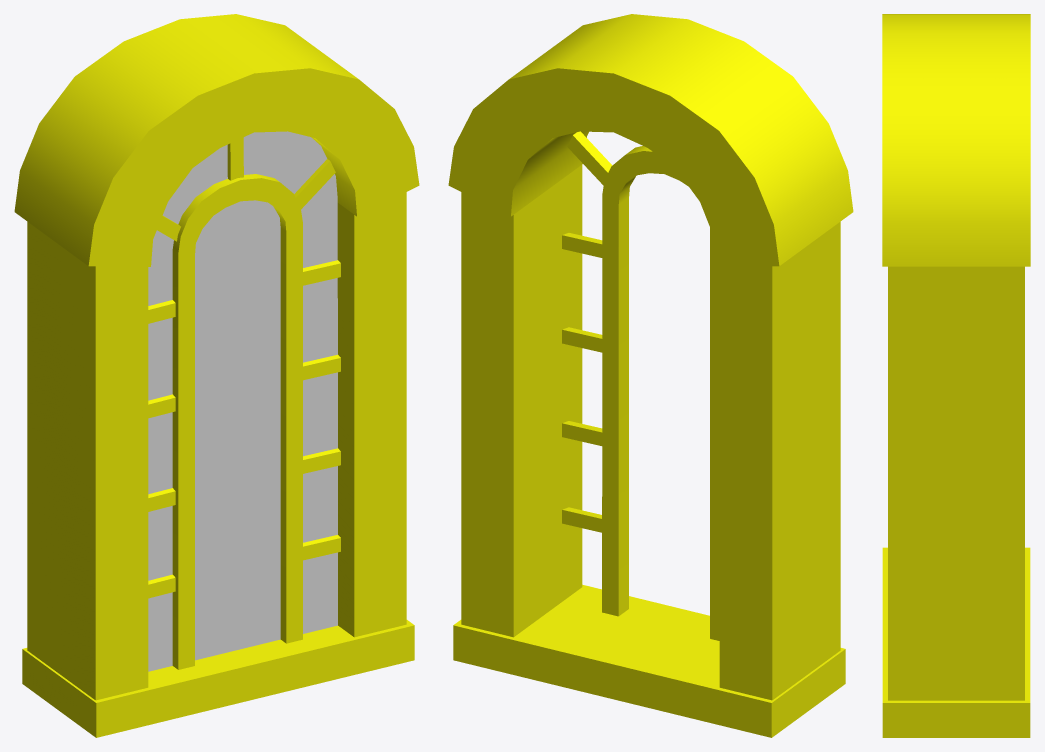
The model's file is window-thin-round1.glb.
3 views of the same model, side by side, from view 1: azimuth 30°, elevation 25°; view 2: azimuth 150°, elevation 25°; view 3: azimuth 270°, elevation 25° (orthographic).
Visible parts, largest first — view 1: Window_Thin_Round1; view 2: Window_Thin_Round1; view 3: Window_Thin_Round1.
Boxes of the visible parts, left/top/right/bottom form: Window_Thin_Round1: left=14, top=14, right=419, bottom=737; Window_Thin_Round1: left=448, top=14, right=853, bottom=737; Window_Thin_Round1: left=882, top=14, right=1030, bottom=737.
Bounding box in the file's own units: 0.8876 × 1.6 × 0.3444.
2 materials, 1 textured.
